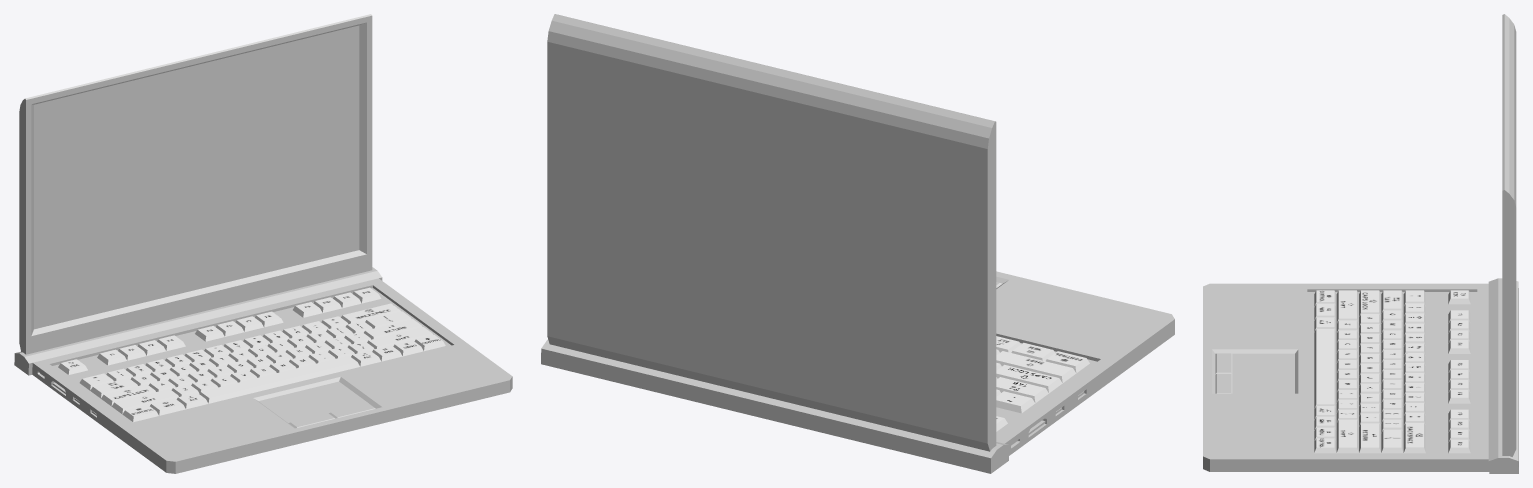
The model's file is computer.fbx.
3 views of the same model, side by side, from view 1: azimuth 30°, elevation 25°; view 2: azimuth 150°, elevation 25°; view 3: azimuth 270°, elevation 25° (orthographic). The views are drawn at different scales.
Parts seen in each view (by area): view 1: laptop screen, laptop lower frame, keyboard layout; view 2: laptop screen, laptop lower frame, keyboard layout; view 3: laptop lower frame, keyboard layout, laptop screen.
Boxes of the visible parts, bbox=[...] form: laptop screen: bbox=[19, 14, 372, 354]; laptop lower frame: bbox=[14, 267, 512, 473]; keyboard layout: bbox=[58, 287, 445, 422]; laptop screen: bbox=[547, 14, 996, 451]; laptop lower frame: bbox=[541, 271, 1174, 473]; keyboard layout: bbox=[996, 336, 1089, 431]; laptop lower frame: bbox=[1203, 278, 1518, 473]; keyboard layout: bbox=[1314, 290, 1470, 453]; laptop screen: bbox=[1502, 14, 1516, 456].
Size of the model in its own units: 63.83 by 46.77 by 47.45.
